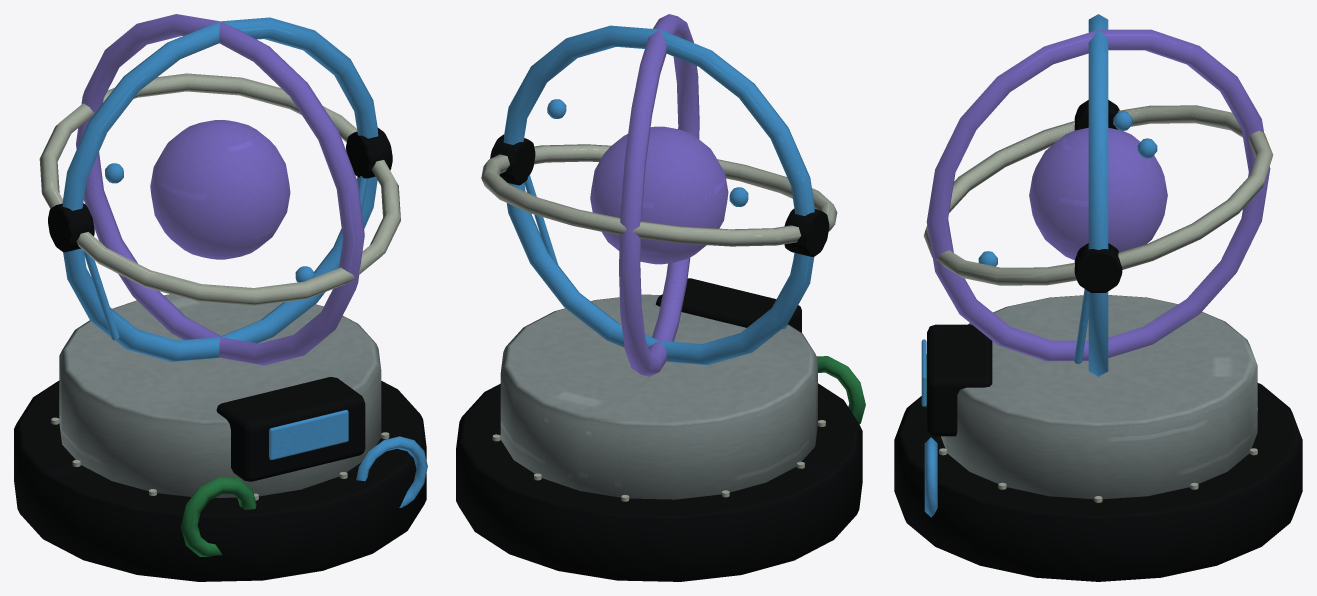
File: stars-signal-standard.glb
3 renders of one model, left to right at view 1: azimuth 30°, elevation 25°; view 2: azimuth 150°, elevation 25°; view 3: azimuth 270°, elevation 25°, orthographic.
Parts seen in each view (by area): view 1: StarMap_Base, StarMap_Platform, ANIM_GIMBAL_Y, ANIM_GIMBAL_X, StarMap_Core, StarMap_Gimbal_Z, StarMap_Control_Deck, StarMap_Control_Screen, PORT_Life.002, StarMap_Gimbal_Bearing_-1, PORT_Signal.003, StarMap_Gimbal_Bearing_1 (+1 smaller); view 2: StarMap_Platform, StarMap_Base, ANIM_GIMBAL_X, ANIM_GIMBAL_Y, StarMap_Core, StarMap_Gimbal_Z, StarMap_Control_Deck, StarMap_Gimbal_Bearing_-1, StarMap_Gimbal_Bearing_1, PORT_Life.002; view 3: StarMap_Platform, StarMap_Base, ANIM_GIMBAL_Y, StarMap_Core, StarMap_Gimbal_Z, ANIM_GIMBAL_X, StarMap_Control_Deck, StarMap_Gimbal_Bearing_1, PORT_Signal.003, StarMap_Gimbal_Cable_1, StarMap_Gimbal_Bearing_-1.
Part boxes in pixels (x1=…): StarMap_Base: x1=14, y1=380, x2=426, y2=581; StarMap_Platform: x1=59, y1=294, x2=381, y2=497; ANIM_GIMBAL_Y: x1=76, y1=14, x2=364, y2=365; ANIM_GIMBAL_X: x1=62, y1=17, x2=378, y2=361; StarMap_Core: x1=150, y1=120, x2=290, y2=259; StarMap_Gimbal_Z: x1=39, y1=73, x2=400, y2=305; StarMap_Control_Deck: x1=216, y1=377, x2=365, y2=481; StarMap_Control_Screen: x1=269, y1=410, x2=348, y2=459; PORT_Life.002: x1=180, y1=477, x2=256, y2=556; StarMap_Gimbal_Bearing_-1: x1=48, y1=203, x2=94, y2=252; PORT_Signal.003: x1=356, y1=436, x2=427, y2=507; StarMap_Gimbal_Bearing_1: x1=346, y1=128, x2=392, y2=178; StarMap_Platform: x1=500, y1=294, x2=817, y2=499; StarMap_Base: x1=456, y1=383, x2=862, y2=581; ANIM_GIMBAL_X: x1=503, y1=25, x2=814, y2=365; ANIM_GIMBAL_Y: x1=619, y1=14, x2=699, y2=376; StarMap_Core: x1=590, y1=126, x2=728, y2=264; StarMap_Gimbal_Z: x1=481, y1=144, x2=837, y2=246; StarMap_Control_Deck: x1=655, y1=278, x2=801, y2=332; StarMap_Gimbal_Bearing_-1: x1=784, y1=209, x2=829, y2=256; StarMap_Gimbal_Bearing_1: x1=490, y1=134, x2=535, y2=185; PORT_Life.002: x1=817, y1=356, x2=865, y2=424; StarMap_Platform: x1=941, y1=295, x2=1257, y2=499; StarMap_Base: x1=894, y1=383, x2=1302, y2=581; ANIM_GIMBAL_Y: x1=926, y1=29, x2=1270, y2=361; StarMap_Core: x1=1029, y1=127, x2=1167, y2=260; StarMap_Gimbal_Z: x1=923, y1=105, x2=1273, y2=285; ANIM_GIMBAL_X: x1=1088, y1=14, x2=1108, y2=376; StarMap_Control_Deck: x1=927, y1=324, x2=992, y2=436; StarMap_Gimbal_Bearing_1: x1=1074, y1=243, x2=1122, y2=292; PORT_Signal.003: x1=924, y1=437, x2=937, y2=517; StarMap_Gimbal_Cable_1: x1=1074, y1=289, x2=1088, y2=364; StarMap_Gimbal_Bearing_-1: x1=1074, y1=100, x2=1119, y2=130.
Bounding box in the file's own units: 1 × 1.27 × 1.
6 materials, 6 textured.
